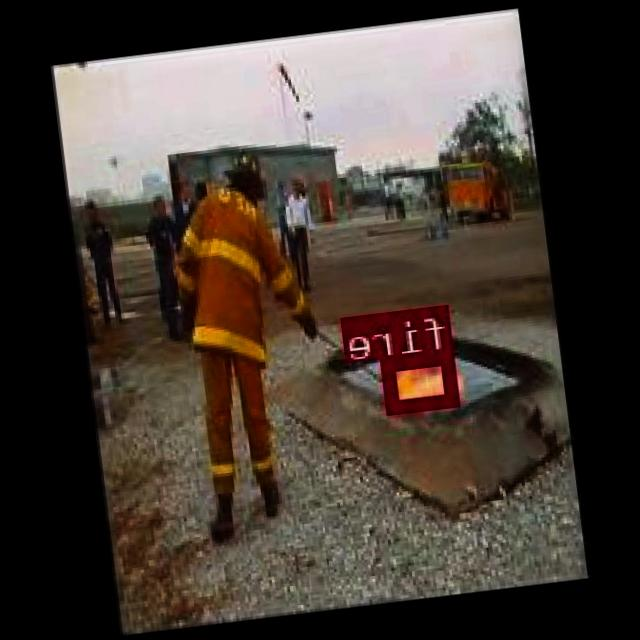fire: (384, 349, 462, 410)
